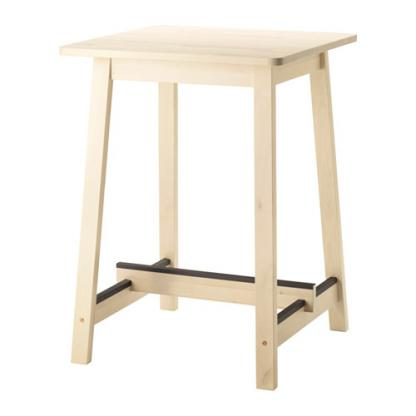Table: (50, 17, 362, 392)
